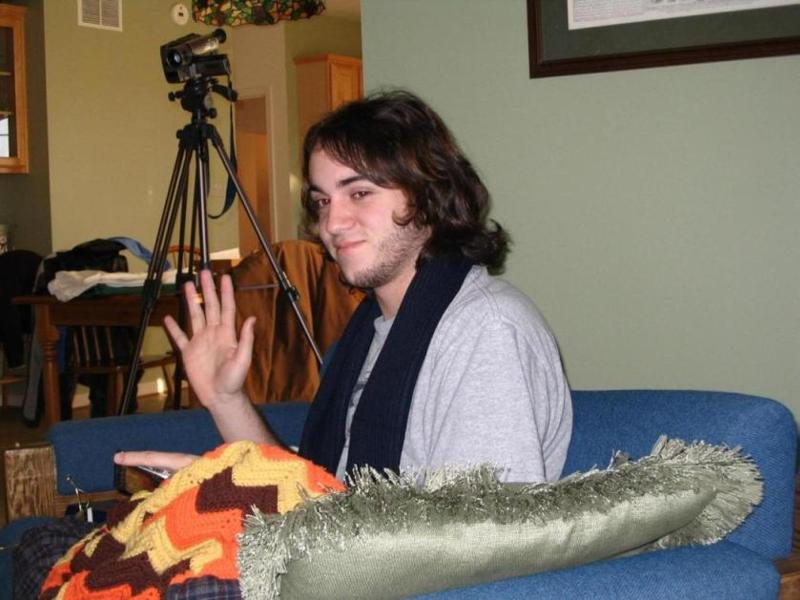person: (20, 88, 570, 600)
